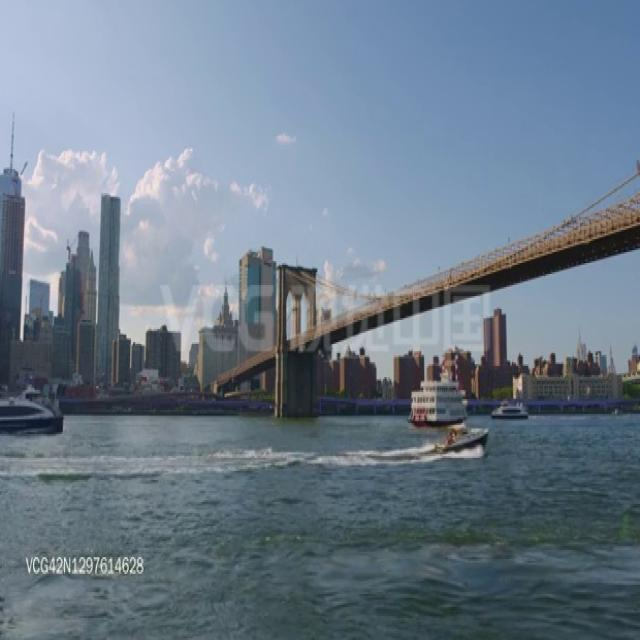houseboat: (435, 422, 487, 453)
passenger ship: (0, 381, 65, 436), (410, 378, 466, 424), (491, 392, 528, 418)
